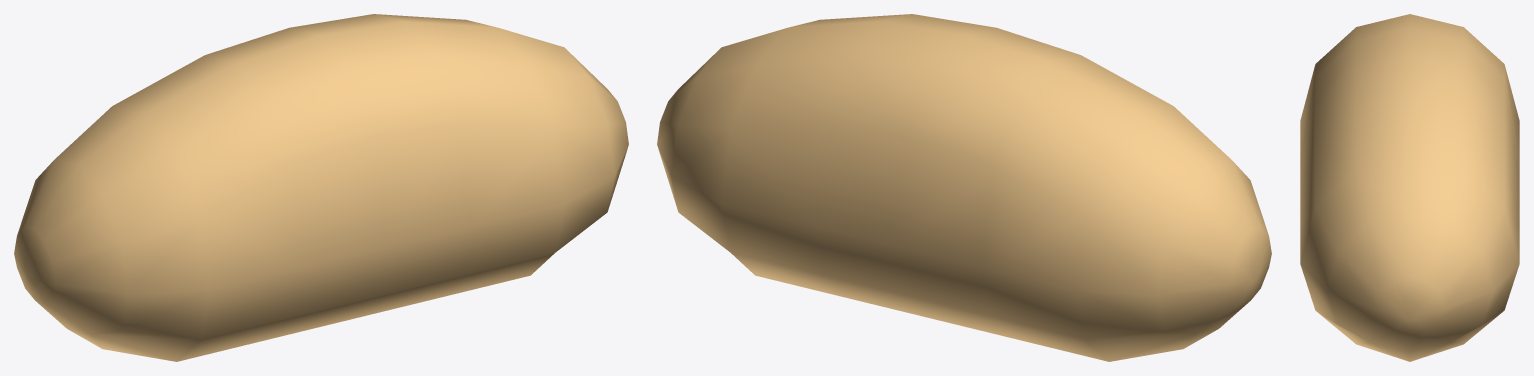
The model's file is Pão Inteiro.FBX.
3 renders of one model, left to right at view 1: azimuth 30°, elevation 25°; view 2: azimuth 150°, elevation 25°; view 3: azimuth 270°, elevation 25°, orthographic. The views are drawn at different scales.
Visible parts, largest first — view 1: Bread; view 2: Bread; view 3: Bread.
Part boxes in pixels (left/top/right/bottom): Bread: left=14, top=14, right=628, bottom=361; Bread: left=657, top=14, right=1271, bottom=361; Bread: left=1300, top=14, right=1519, bottom=361.
Size of the model in its own units: 232 by 99.16 by 90.98.
